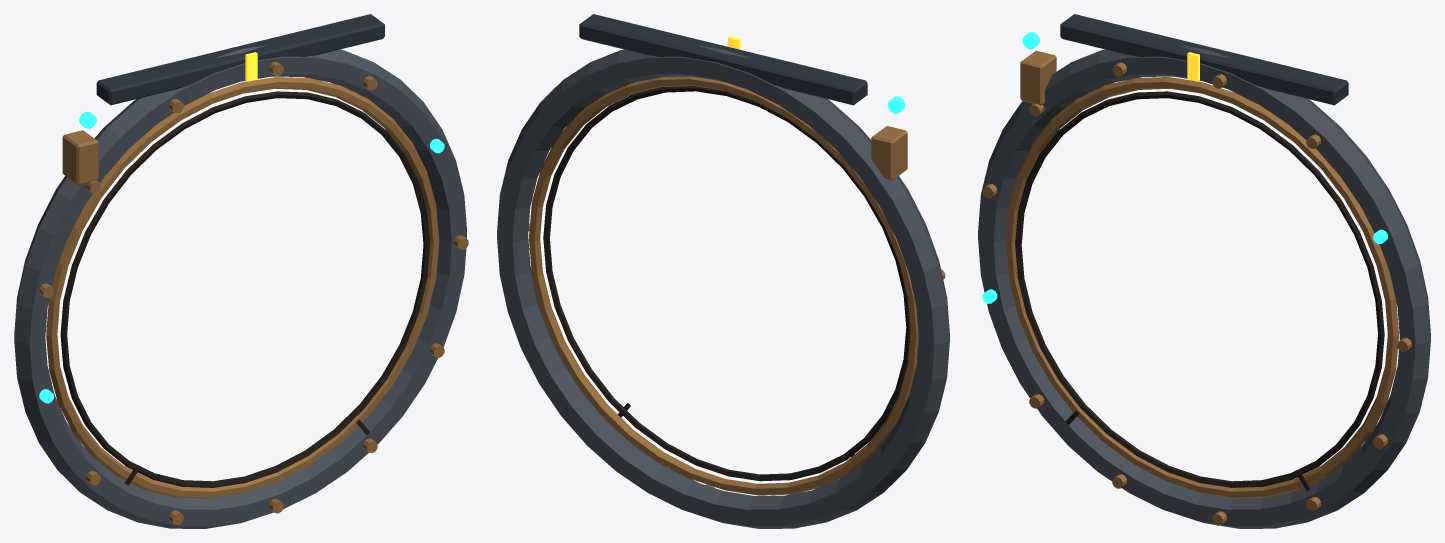
The model's file is runtime.glb.
3 renders of one model, left to right at view 1: azimuth 30°, elevation 25°; view 2: azimuth 150°, elevation 25°; view 3: azimuth 330°, elevation 25°, orthographic.
Visible parts, largest first — view 1: kinetic-tide-bearing-flange-v05_plate_nocol, kinetic-tide-bearing-flange-v05_bronze_nocol, kinetic-tide-bearing-flange-v05_weardark_nocol, kinetic-tide-bearing-flange-v05_steel_nocol, kinetic-tide-bearing-flange-v05_cyansignal_nocol; view 2: kinetic-tide-bearing-flange-v05_plate_nocol, kinetic-tide-bearing-flange-v05_bronze_nocol, kinetic-tide-bearing-flange-v05_weardark_nocol, kinetic-tide-bearing-flange-v05_steel_nocol; view 3: kinetic-tide-bearing-flange-v05_plate_nocol, kinetic-tide-bearing-flange-v05_bronze_nocol, kinetic-tide-bearing-flange-v05_weardark_nocol, kinetic-tide-bearing-flange-v05_steel_nocol, kinetic-tide-bearing-flange-v05_cyansignal_nocol.
Boxes of the visible parts, <box> form: kinetic-tide-bearing-flange-v05_plate_nocol: <box>14,45,466,528</box>; kinetic-tide-bearing-flange-v05_bronze_nocol: <box>39,61,468,525</box>; kinetic-tide-bearing-flange-v05_weardark_nocol: <box>60,91,429,487</box>; kinetic-tide-bearing-flange-v05_steel_nocol: <box>96,14,384,105</box>; kinetic-tide-bearing-flange-v05_cyansignal_nocol: <box>39,111,444,403</box>; kinetic-tide-bearing-flange-v05_plate_nocol: <box>497,45,949,528</box>; kinetic-tide-bearing-flange-v05_bronze_nocol: <box>528,76,945,495</box>; kinetic-tide-bearing-flange-v05_weardark_nocol: <box>543,86,910,481</box>; kinetic-tide-bearing-flange-v05_steel_nocol: <box>579,14,867,105</box>; kinetic-tide-bearing-flange-v05_plate_nocol: <box>978,45,1430,528</box>; kinetic-tide-bearing-flange-v05_bronze_nocol: <box>982,50,1411,525</box>; kinetic-tide-bearing-flange-v05_weardark_nocol: <box>1015,91,1384,490</box>; kinetic-tide-bearing-flange-v05_steel_nocol: <box>1060,14,1348,105</box>; kinetic-tide-bearing-flange-v05_cyansignal_nocol: <box>982,32,1387,303</box>.
Size of the model in its own units: 8.96 by 9.02 by 0.6878.
